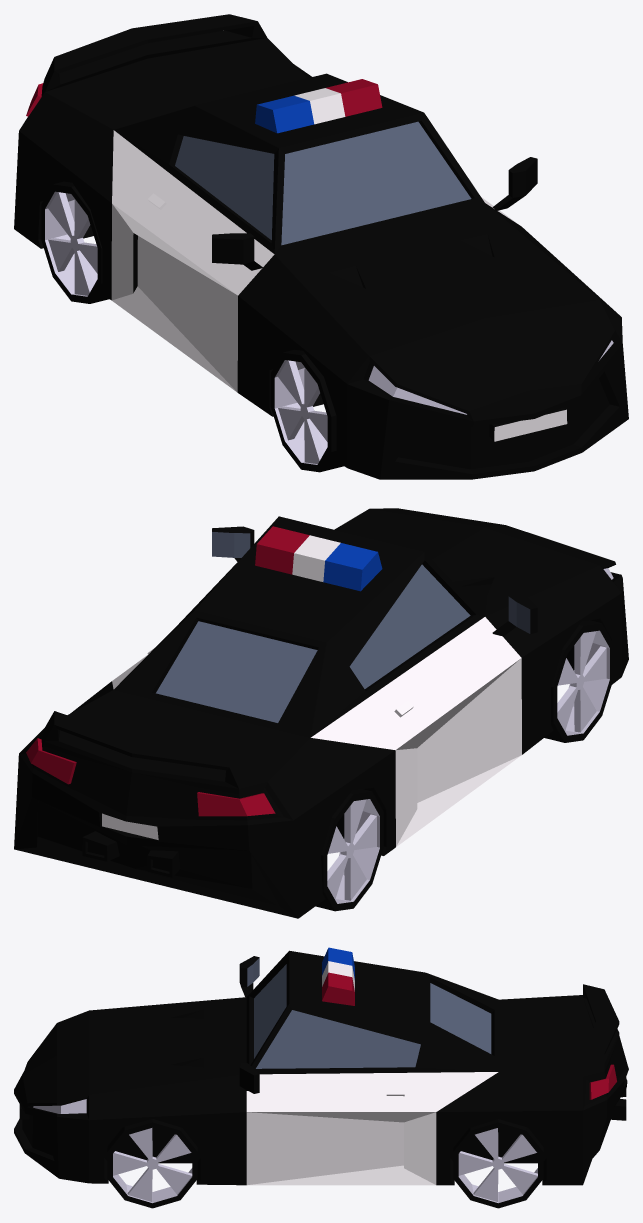
The model's file is Police_Sports.glb.
3 renders of one model, top to bottom at view 1: azimuth 30°, elevation 25°; view 2: azimuth 150°, elevation 25°; view 3: azimuth 270°, elevation 25°, orthographic. The views are drawn at different scales.
Parts seen in each view (by area): view 1: Police Sports_body black_0, Police Sports_body white_0, Police Sports_windows_0, Police Sports wheel front right_wheels_0, Police Sports wheel rear right_wheels_0, Police Sports wheel front right_tires_0, Police Sports wheel rear right_tires_0, Police Sports_flashers siren blue_0, Police Sports_flashers siren red_0, Police Sports_headlights_0; view 2: Police Sports_body black_0, Police Sports_body white_0, Police Sports_windows_0, Police Sports wheel rear right_wheels_0, Police Sports wheel front right_wheels_0, Police Sports_rear lights_0, Police Sports_flashers siren blue_0, Police Sports wheel front right_tires_0, Police Sports wheel rear right_tires_0, Police Sports_flashers siren red_0; view 3: Police Sports_body black_0, Police Sports_body white_0, Police Sports_windows_0, Police Sports wheel rear left_wheels_0, Police Sports wheel front left_wheels_0, Police Sports wheel front left_tires_0, Police Sports wheel rear left_tires_0, Police Sports_flashers siren red_0, Police Sports_rear lights_0, Police Sports_flashers siren blue_0, Police Sports_headlights_0.
Part boxes in pixels (bbox=[...]): Police Sports_body black_0: bbox=[14, 14, 628, 479]; Police Sports_body white_0: bbox=[111, 88, 567, 441]; Police Sports_windows_0: bbox=[175, 121, 471, 245]; Police Sports wheel front right_wheels_0: bbox=[274, 360, 327, 464]; Police Sports wheel rear right_wheels_0: bbox=[45, 191, 97, 296]; Police Sports wheel front right_tires_0: bbox=[271, 349, 343, 472]; Police Sports wheel rear right_tires_0: bbox=[41, 181, 109, 303]; Police Sports_flashers siren blue_0: bbox=[255, 95, 314, 133]; Police Sports_flashers siren red_0: bbox=[326, 79, 382, 116]; Police Sports_headlights_0: bbox=[368, 340, 613, 414]; Police Sports_body black_0: bbox=[14, 508, 628, 918]; Police Sports_body white_0: bbox=[102, 535, 521, 846]; Police Sports_windows_0: bbox=[156, 532, 530, 722]; Police Sports wheel rear right_wheels_0: bbox=[327, 799, 379, 903]; Police Sports wheel front right_wheels_0: bbox=[557, 630, 609, 735]; Police Sports_rear lights_0: bbox=[26, 738, 275, 816]; Police Sports_flashers siren blue_0: bbox=[323, 543, 382, 591]; Police Sports wheel front right_tires_0: bbox=[544, 620, 613, 742]; Police Sports wheel rear right_tires_0: bbox=[315, 789, 383, 911]; Police Sports_flashers siren red_0: bbox=[255, 526, 309, 574]; Police Sports_body black_0: bbox=[14, 950, 628, 1185]; Police Sports_body white_0: bbox=[246, 961, 498, 1185]; Police Sports_windows_0: bbox=[247, 958, 491, 1068]; Police Sports wheel rear left_wheels_0: bbox=[458, 1128, 537, 1203]; Police Sports wheel front left_wheels_0: bbox=[113, 1128, 192, 1203]; Police Sports wheel front left_tires_0: bbox=[107, 1119, 197, 1208]; Police Sports wheel rear left_tires_0: bbox=[453, 1119, 543, 1208]; Police Sports_flashers siren red_0: bbox=[322, 972, 354, 1005]; Police Sports_rear lights_0: bbox=[589, 1064, 616, 1099]; Police Sports_flashers siren blue_0: bbox=[322, 947, 354, 979]; Police Sports_headlights_0: bbox=[33, 1099, 86, 1113].
Size of the model in its own units: 2.63 by 1.95 by 5.73.
